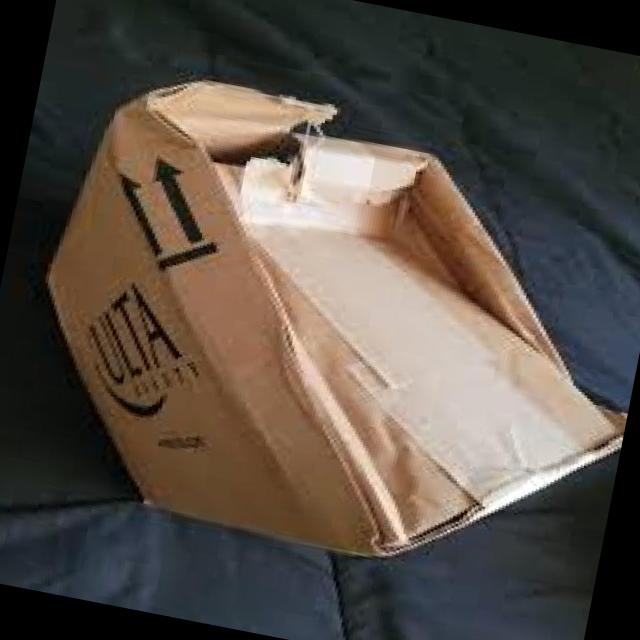box: (93, 49, 501, 504)
